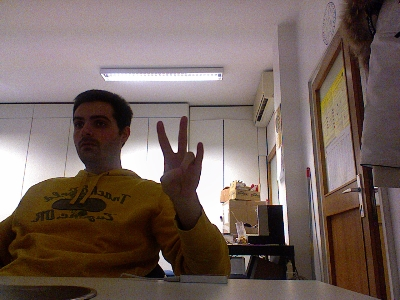观音: (155, 114, 204, 197)
